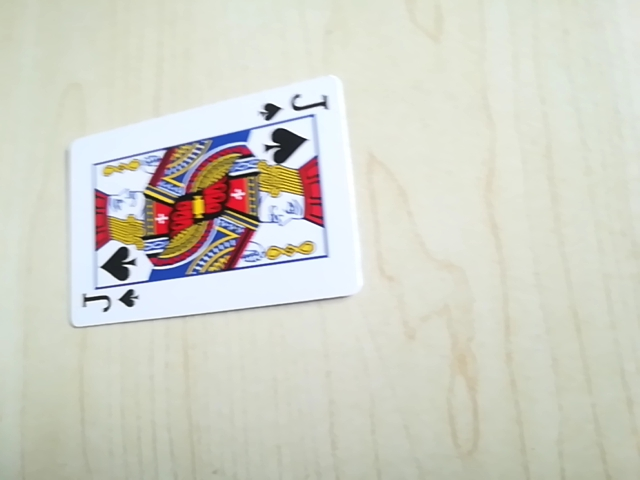ht j: (73, 281, 143, 323), (255, 91, 331, 124)
